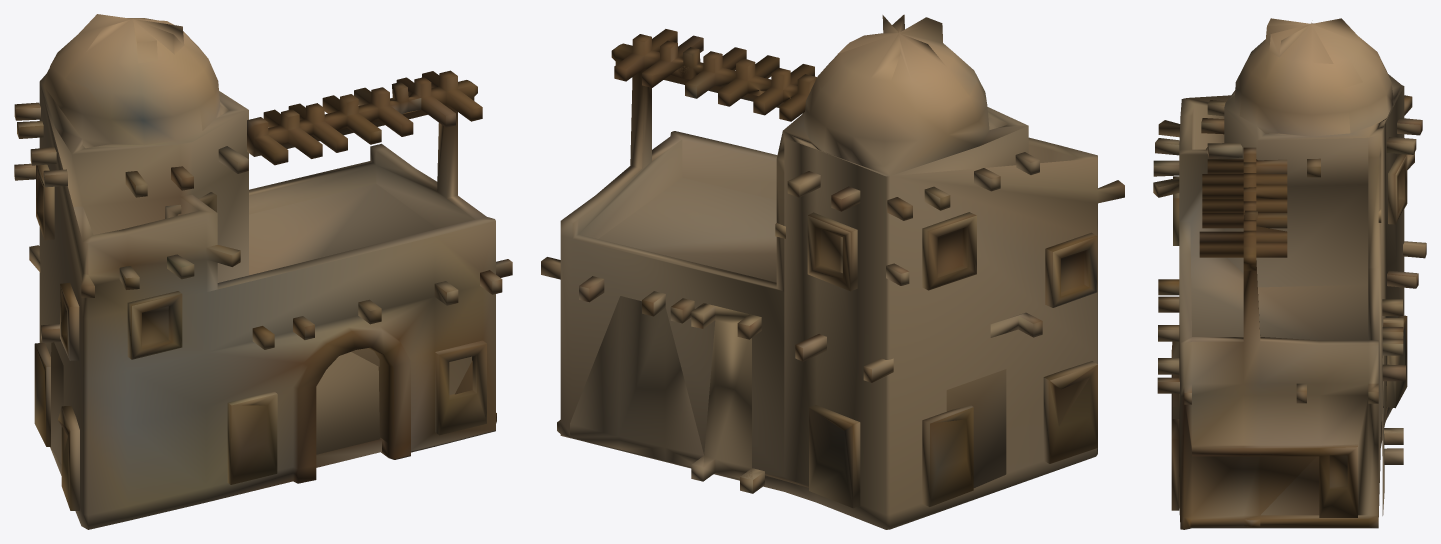
The model's file is building-2.fbx.
The picture shows the model from 3 angles, left to right: view 1: azimuth 30°, elevation 25°; view 2: azimuth 150°, elevation 25°; view 3: azimuth 270°, elevation 25°; orthographic projection. The views are drawn at different scales.
Parts seen in each view (by area): view 1: Adobe_Express_file_Three_dimensional_model_of_a_desert_buil.; view 2: Adobe_Express_file_Three_dimensional_model_of_a_desert_buil.; view 3: Adobe_Express_file_Three_dimensional_model_of_a_desert_buil..
Part boxes in pixels (x1,y1,x2,y2): Adobe_Express_file_Three_dimensional_model_of_a_desert_buil.: (14, 14, 512, 529); Adobe_Express_file_Three_dimensional_model_of_a_desert_buil.: (541, 14, 1124, 529); Adobe_Express_file_Three_dimensional_model_of_a_desert_buil.: (1153, 18, 1426, 529).
Size of the model in its own units: 3038 by 2815 by 1831.
